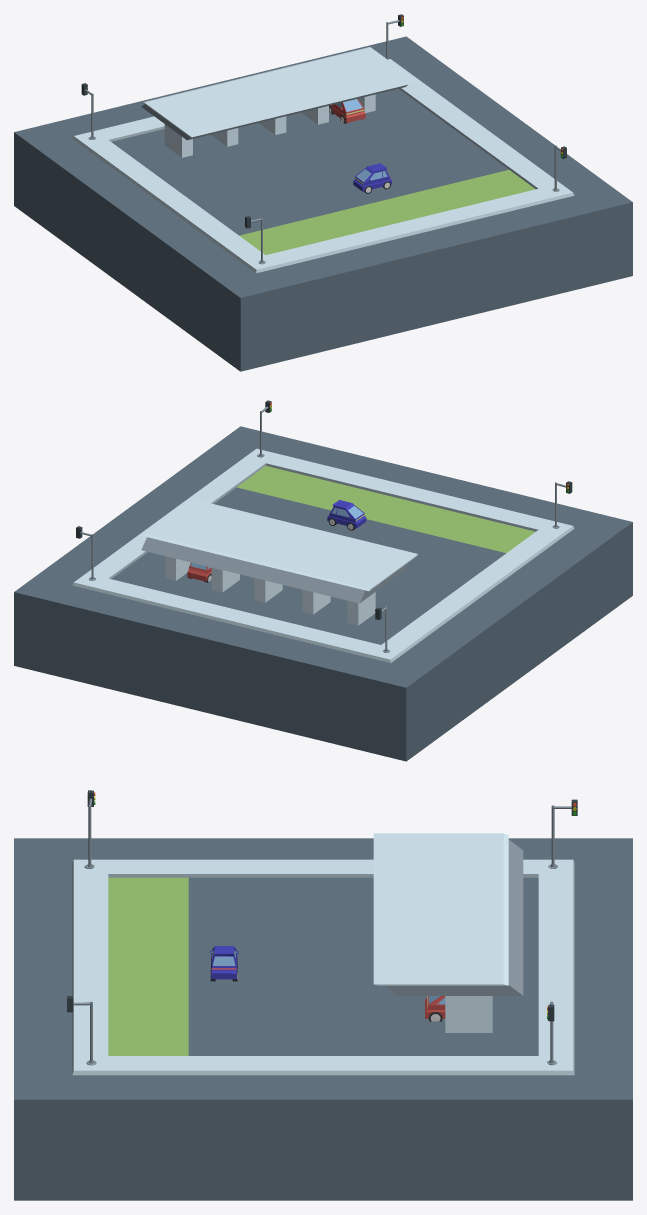
File: charging-station.glb
3 renders of one model, top to bottom at view 1: azimuth 30°, elevation 25°; view 2: azimuth 150°, elevation 25°; view 3: azimuth 270°, elevation 25°, orthographic. The views are drawn at different scales.
Visible parts, largest first — view 1: Cube.001, Cube.015, Cube; view 2: Cube.001, Cube.015; view 3: Cube.001, Cube.015.
Part boxes in pixels (x1,y1,x2,y2): Cube.001: (14,36,632,371); Cube.015: (353,163,391,191); Cube: (330,99,365,122); Cube.001: (14,426,632,761); Cube.015: (327,499,366,528); Cube.001: (14,833,632,1200); Cube.015: (211,946,237,979).
Bounding box in the file's own units: 17.05 × 5.2 × 17.05.
